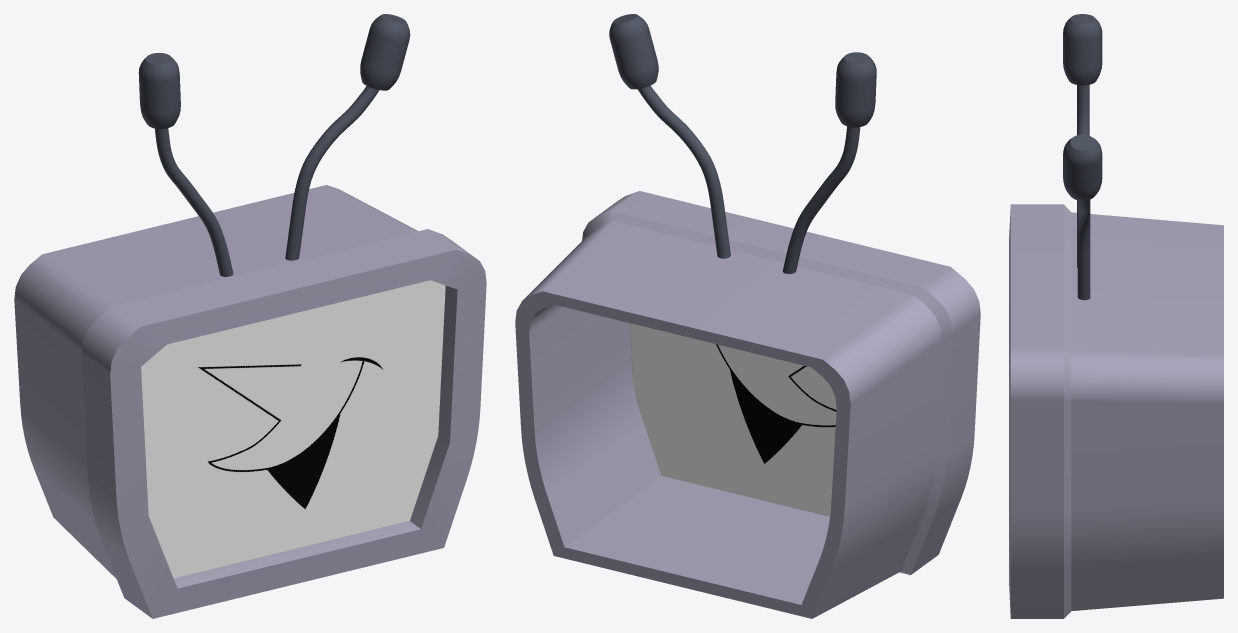
File: Tenna_Normal.fbx
The picture shows the model from 3 angles, left to right: view 1: azimuth 30°, elevation 25°; view 2: azimuth 150°, elevation 25°; view 3: azimuth 270°, elevation 25°; orthographic projection. The views are drawn at different scales.
Visible parts, largest first — view 1: TV, Screen, pCylinder2, pCylinder1, Stick2, Stick1; view 2: TV, Screen, pCylinder2, pCylinder1, Stick2, Stick1; view 3: TV, pCylinder1, pCylinder2, Stick2, Stick1.
Boxes of the visible parts, x1,y1,x2,y2 form: TV: [14, 185, 486, 618]; Screen: [141, 280, 445, 578]; pCylinder2: [360, 14, 410, 90]; pCylinder1: [138, 53, 180, 128]; Stick2: [285, 86, 379, 260]; Stick1: [155, 128, 233, 276]; TV: [515, 191, 980, 618]; Screen: [630, 323, 836, 516]; pCylinder2: [609, 14, 658, 89]; pCylinder1: [835, 52, 876, 127]; Stick2: [638, 85, 730, 258]; Stick1: [782, 126, 860, 273]; TV: [1009, 204, 1223, 618]; pCylinder1: [1063, 14, 1102, 85]; pCylinder2: [1063, 134, 1102, 200]; Stick2: [1077, 200, 1090, 300]; Stick1: [1077, 84, 1089, 267].
Bounding box in the file's own units: 5.18 × 6.86 × 2.74.
4 materials, 1 textured.
